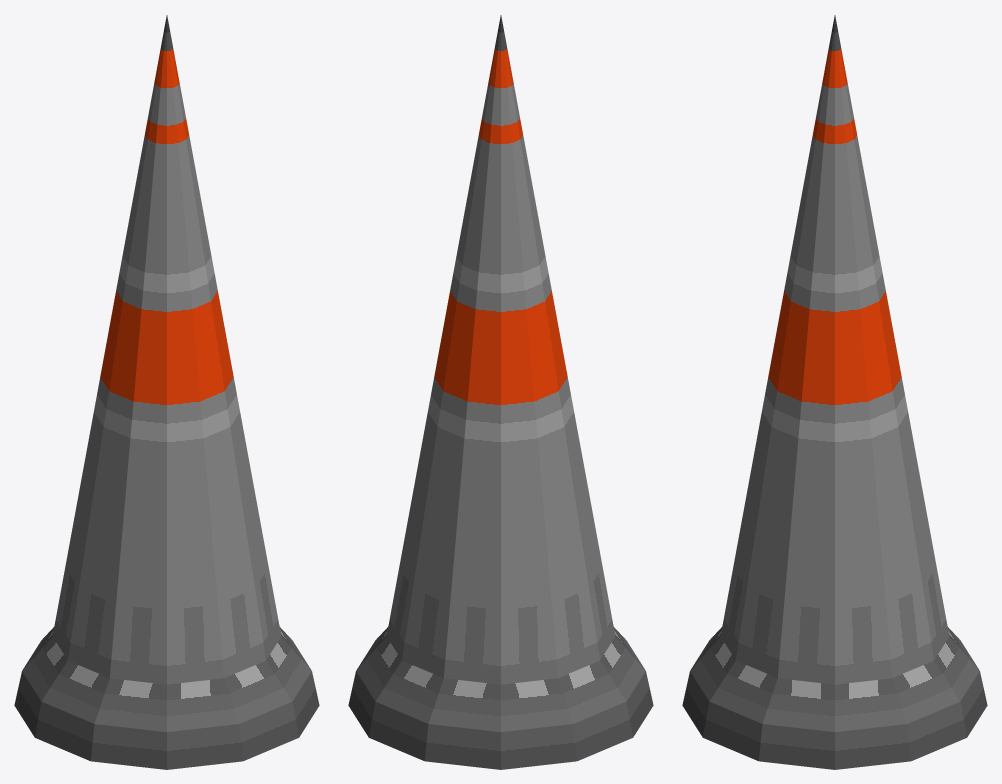
The model's file is mp_w_10_incendiary.obj.
The picture shows the model from 3 angles, left to right: view 1: azimuth 30°, elevation 25°; view 2: azimuth 150°, elevation 25°; view 3: azimuth 270°, elevation 25°; orthographic projection.
Parts seen in each view (by area): view 1: Cone; view 2: Cone; view 3: Cone.
Part boxes in pixels (x1,y1,x2,y2): Cone: [14, 15, 319, 769]; Cone: [348, 15, 653, 769]; Cone: [682, 15, 987, 769].
Size of the model in its own units: 1 by 2.5 by 1.
